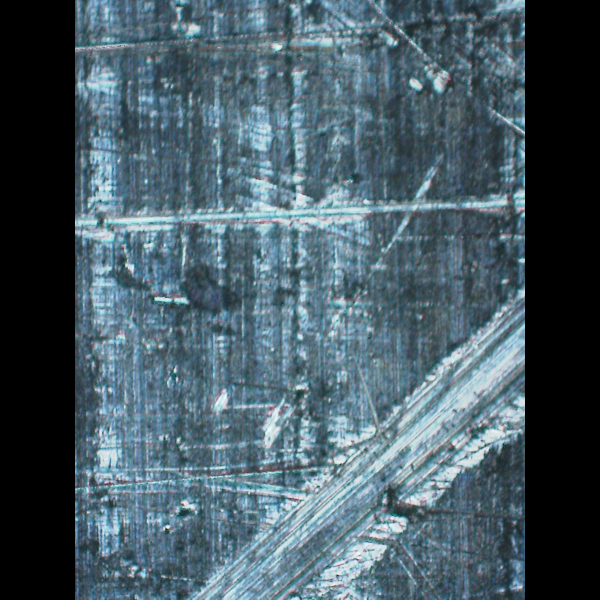d: (184, 285, 525, 600), (75, 182, 520, 278)
